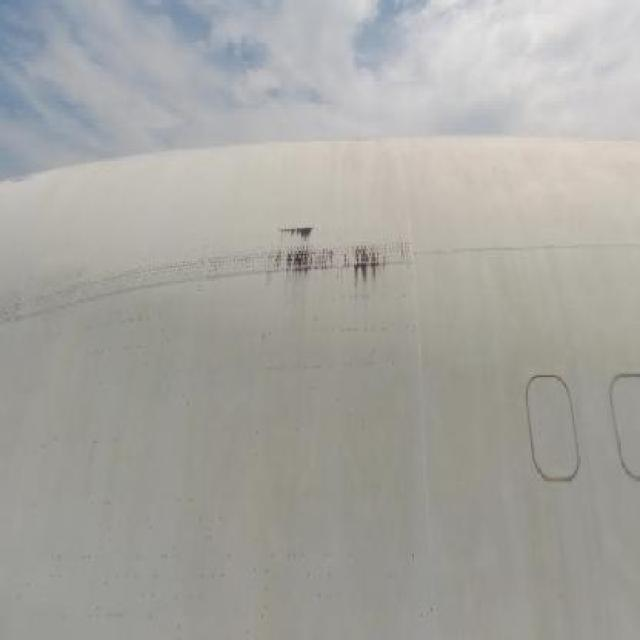Rust: (256, 202, 395, 313)
